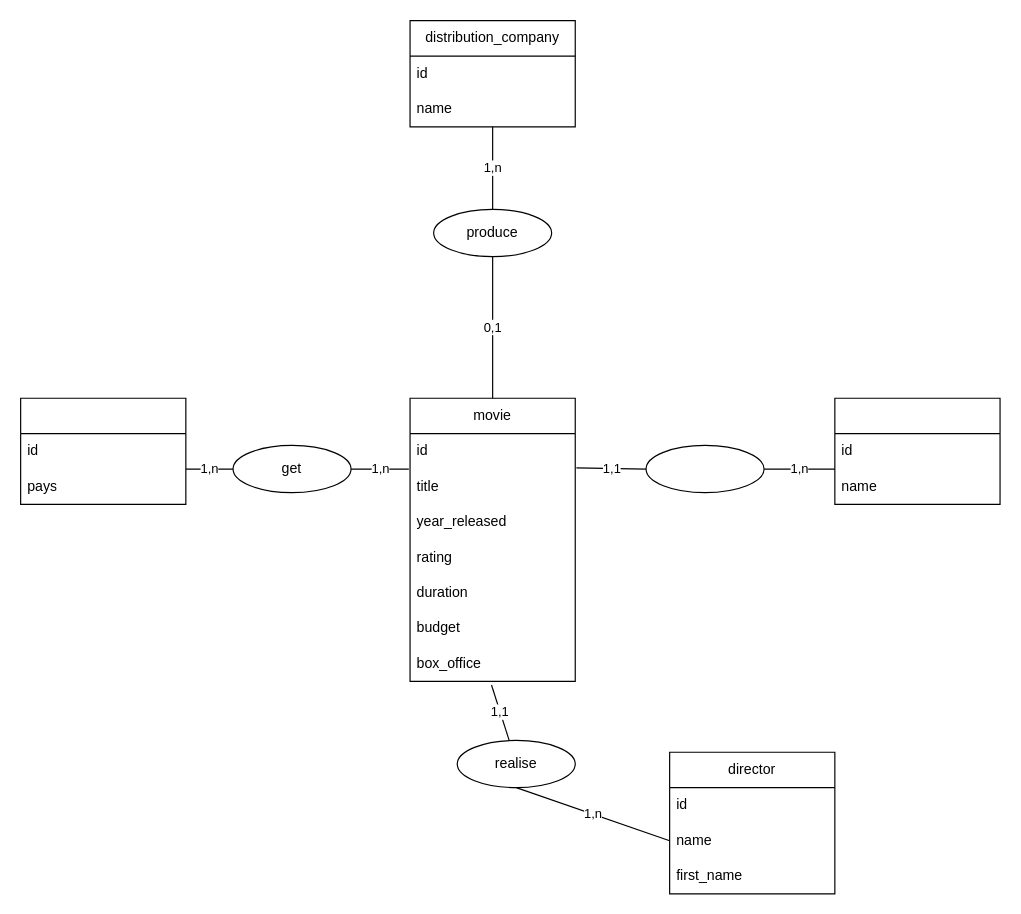
Some shapes in this 1021 by 914 pixel diagram are drawn without their labels. Each missing label, with the box of its shape:
genre: (834, 397, 1000, 504)
have: (645, 444, 764, 493)
language: (19, 397, 186, 504)
